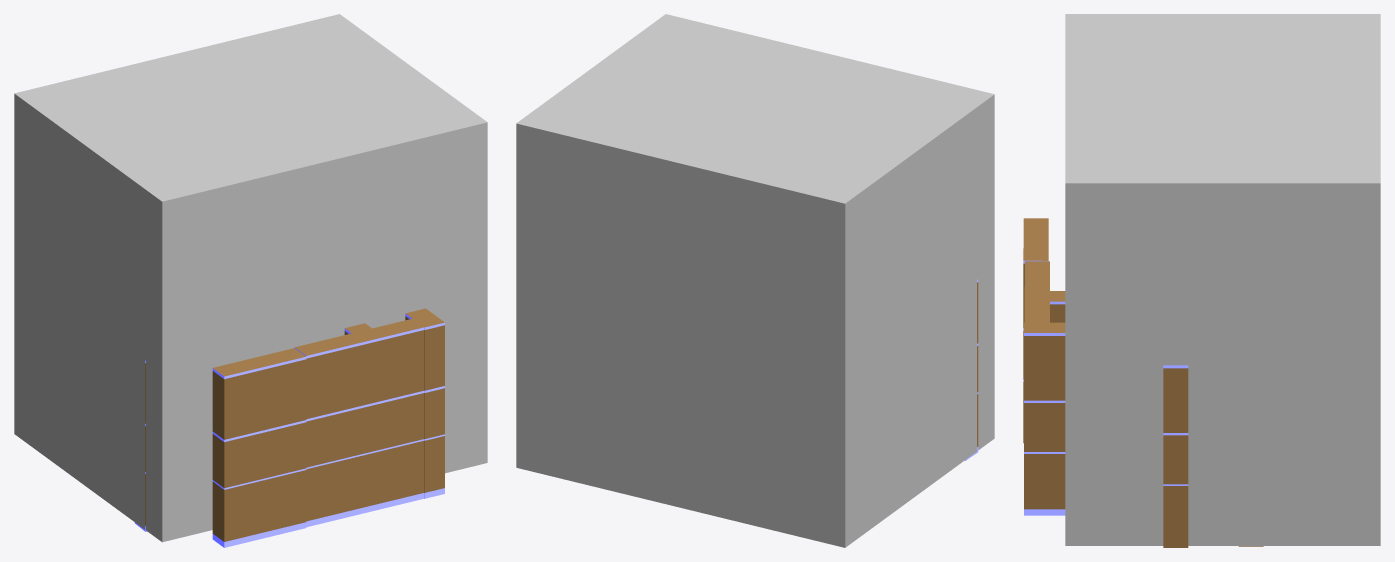
The model's file is map2 copy.glb.
3 renders of one model, left to right at view 1: azimuth 30°, elevation 25°; view 2: azimuth 150°, elevation 25°; view 3: azimuth 270°, elevation 25°, orthographic. The views are drawn at different scales.
Visible parts, largest first — view 1: Cube, wall_1.008, wall_1.009, wall_1.005; view 2: Cube; view 3: Cube, wall_1.005, wall_1_, wall_1.008, wall_1.009, wall_1.010.
Part boxes in pixels (box(x1,y1,x2,y2)): Cube: box(14, 14, 487, 542); wall_1.008: box(294, 318, 424, 527); wall_1.009: box(212, 348, 306, 547); wall_1.005: box(405, 308, 444, 498); Cube: box(516, 14, 994, 547); Cube: box(1065, 14, 1380, 545); wall_1.005: box(1024, 322, 1065, 515); wall_1_: box(1163, 365, 1188, 547); wall_1.008: box(1024, 261, 1049, 324); wall_1.009: box(1023, 218, 1048, 443); wall_1.010: box(1027, 291, 1065, 322).
Size of what is drawn, in the model's own units: 31.82 by 31.96 by 28.36.
